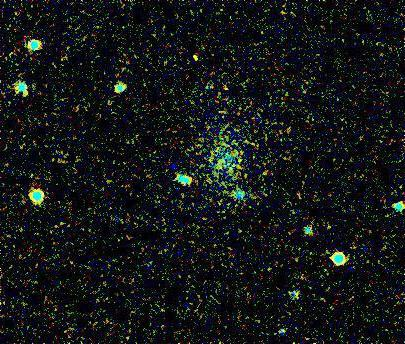star: (181, 42, 211, 72)
